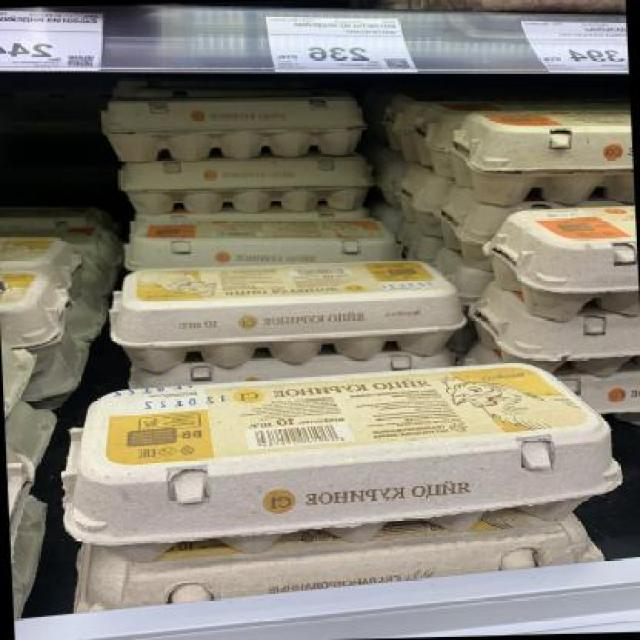egg: (48, 357, 627, 566), (102, 250, 472, 370), (486, 205, 640, 320), (119, 214, 395, 272)
